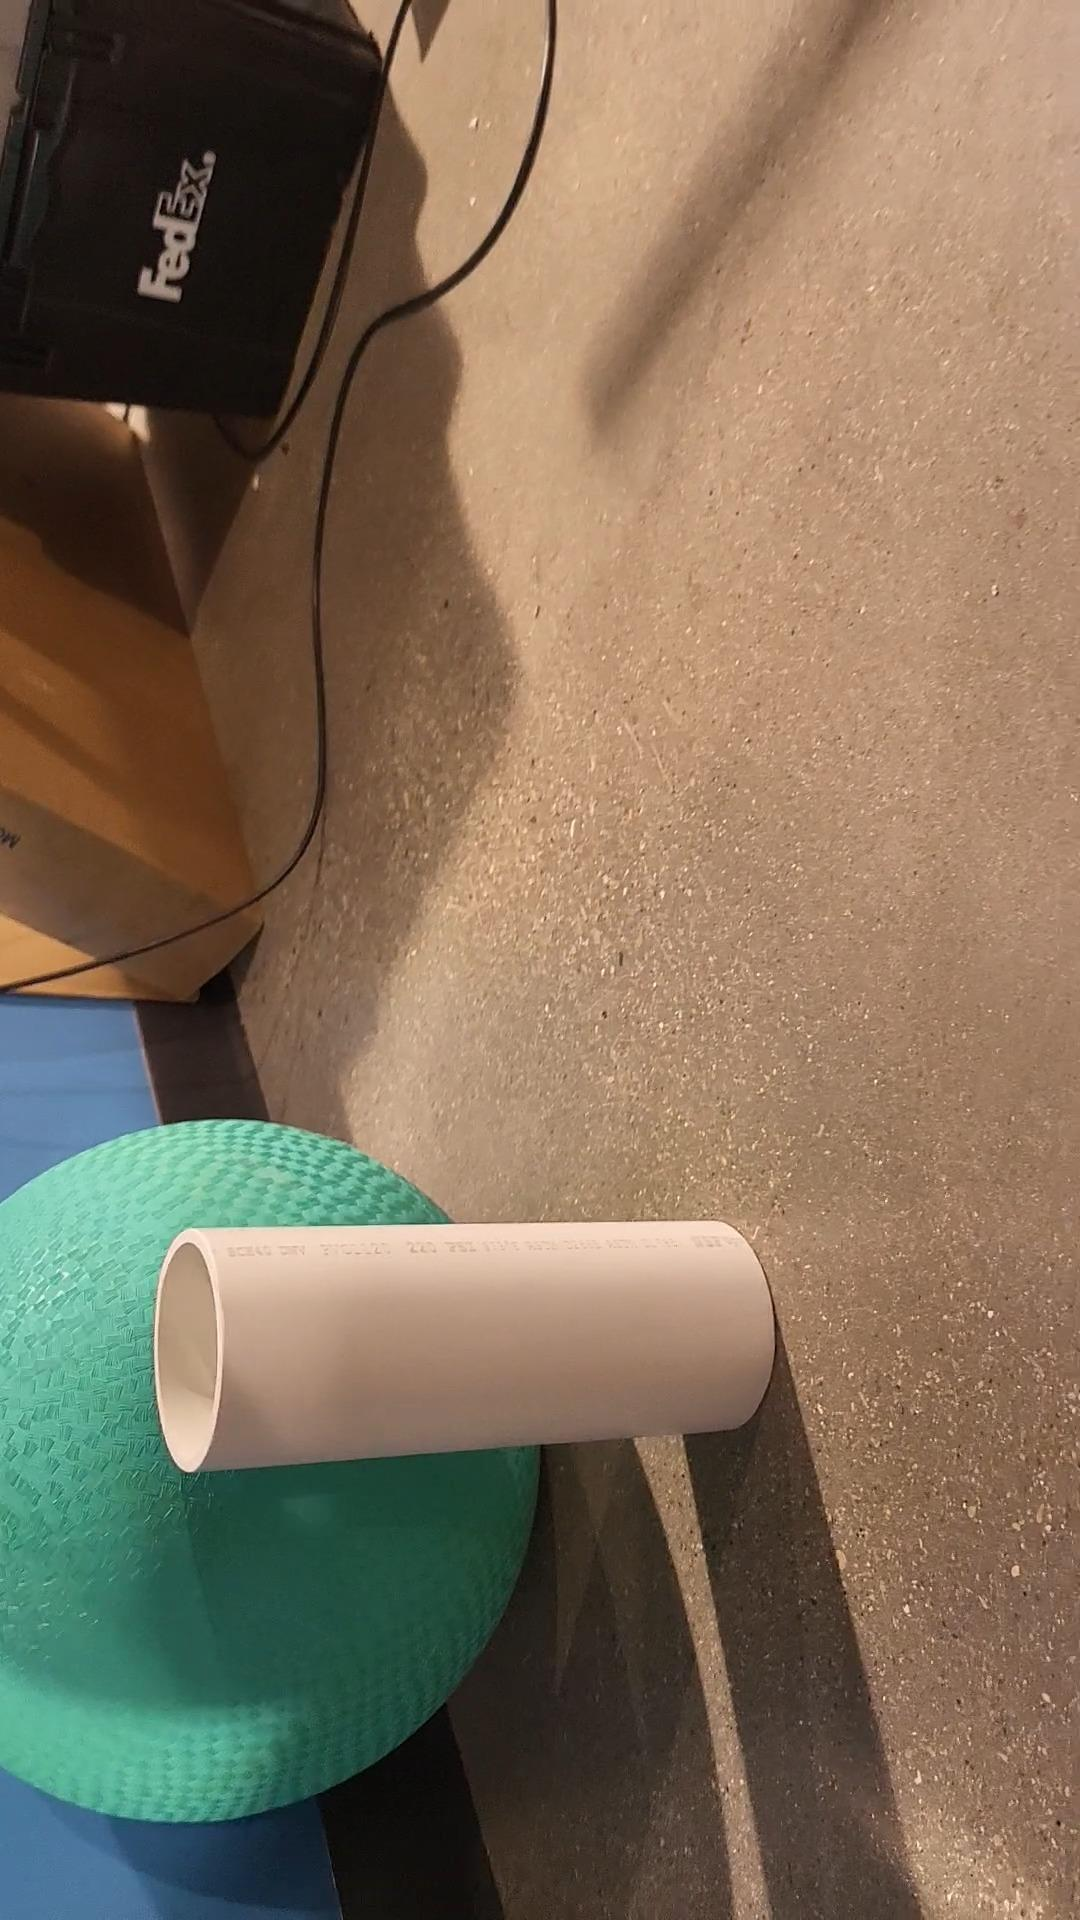algae: (0, 1120, 545, 1820)
coral: (158, 1222, 780, 1472)
